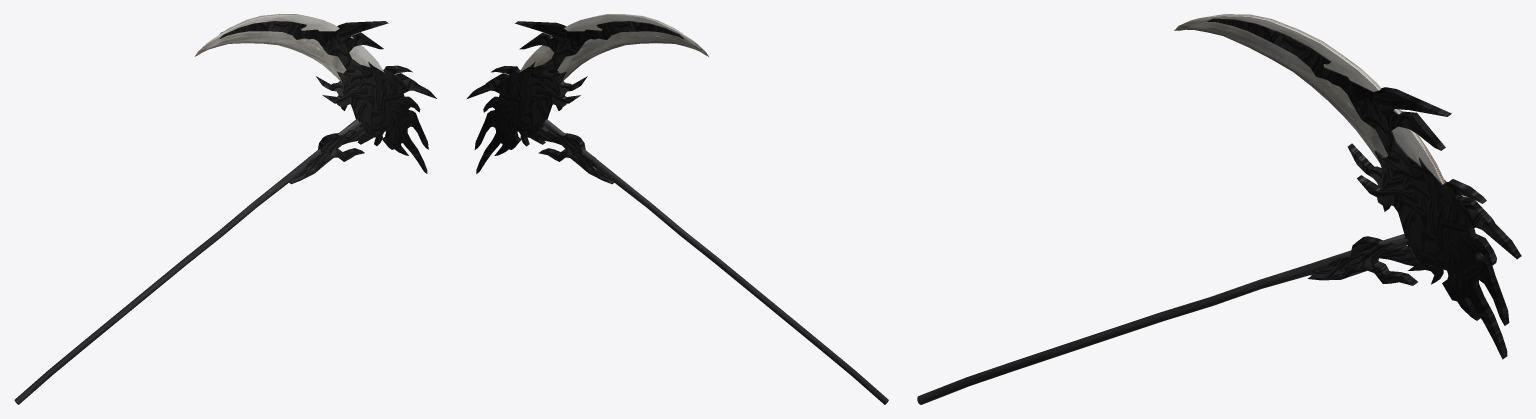
The model's file is DemonicScythe.FBX.
3 renders of one model, left to right at view 1: azimuth 30°, elevation 25°; view 2: azimuth 150°, elevation 25°; view 3: azimuth 330°, elevation 25°, orthographic. The views are drawn at different scales.
Parts seen in each view (by area): view 1: Line001, Blade, Cylinder001, Line002; view 2: Line001, Blade, Cylinder001, Line002; view 3: Line001, Blade, Cylinder001, Line002.
Boxes of the visible parts, x1,y1,x2,y2 form: Line001: (219,21,436,173); Blade: (194,14,384,81); Cylinder001: (14,119,361,404); Line002: (288,126,368,184); Line001: (467,21,683,173); Blade: (519,14,708,81); Cylinder001: (542,119,888,404); Line002: (535,127,614,184); Line001: (1207,18,1521,359); Blade: (1174,14,1445,184); Cylinder001: (917,234,1408,404); Line002: (1304,236,1418,285).
Bounding box in the file's own units: 628 × 469 × 9.69.
3 materials, 3 textured.
